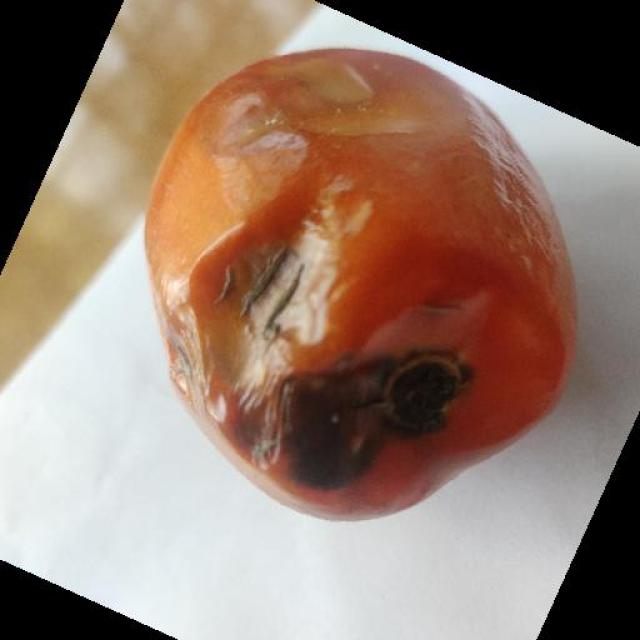Stale_tomato: (135, 50, 581, 494)
